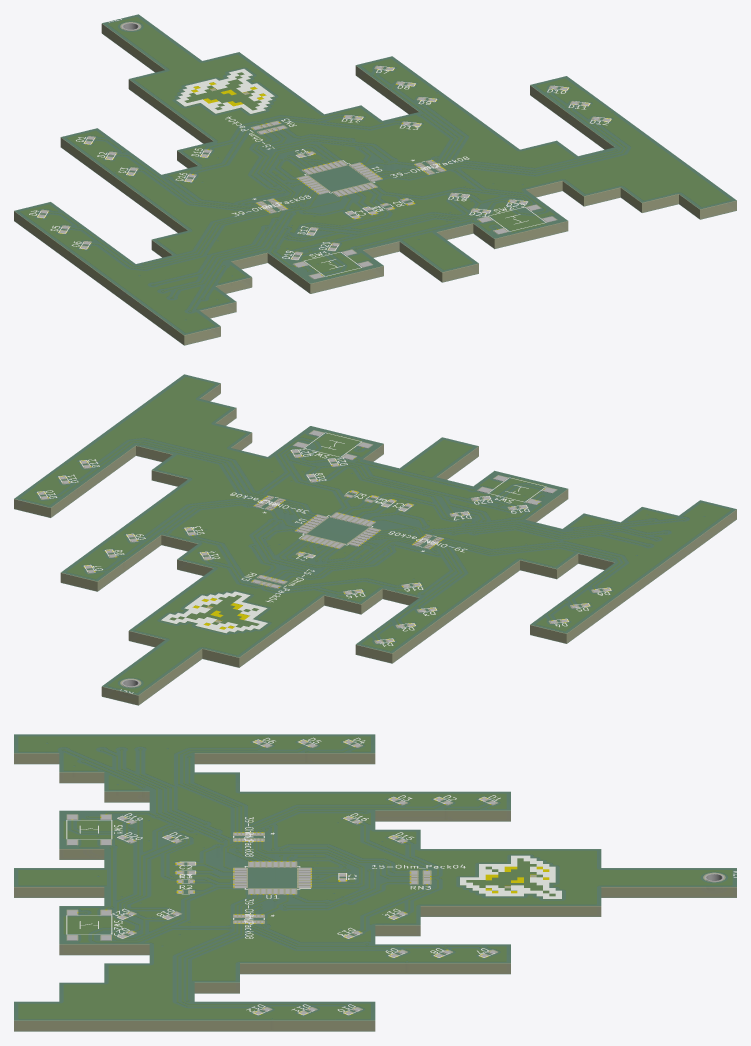
File: coinop-badge.glb
The picture shows the model from 3 angles, top to bottom: view 1: azimuth 30°, elevation 25°; view 2: azimuth 150°, elevation 25°; view 3: azimuth 270°, elevation 25°; orthographic projection. The views are drawn at different scales.
Parts seen in each view (by area): view 1: =>[0:1:1:7], =>[0:1:1:2], =>[0:1:1:9], =>[0:1:1:5]; view 2: =>[0:1:1:7], =>[0:1:1:2], =>[0:1:1:9], =>[0:1:1:5]; view 3: =>[0:1:1:7], =>[0:1:1:2], =>[0:1:1:9], =>[0:1:1:5].
Boxes of the visible parts, x1,y1,x2,y2 form: =>[0:1:1:7]: (14, 14, 736, 345); =>[0:1:1:2]: (21, 17, 729, 332); =>[0:1:1:9]: (14, 15, 736, 345); =>[0:1:1:5]: (29, 18, 611, 276); =>[0:1:1:7]: (14, 374, 736, 705); =>[0:1:1:2]: (21, 377, 729, 692); =>[0:1:1:9]: (14, 375, 736, 705); =>[0:1:1:5]: (37, 432, 611, 693); =>[0:1:1:7]: (14, 734, 736, 1031); =>[0:1:1:2]: (19, 737, 731, 1018); =>[0:1:1:9]: (14, 735, 736, 1031); =>[0:1:1:5]: (66, 737, 736, 1015).
Bounding box in the file's own units: 0.09 × 0.00166 × 0.096.
Materials: 4 (4 with a texture image).
